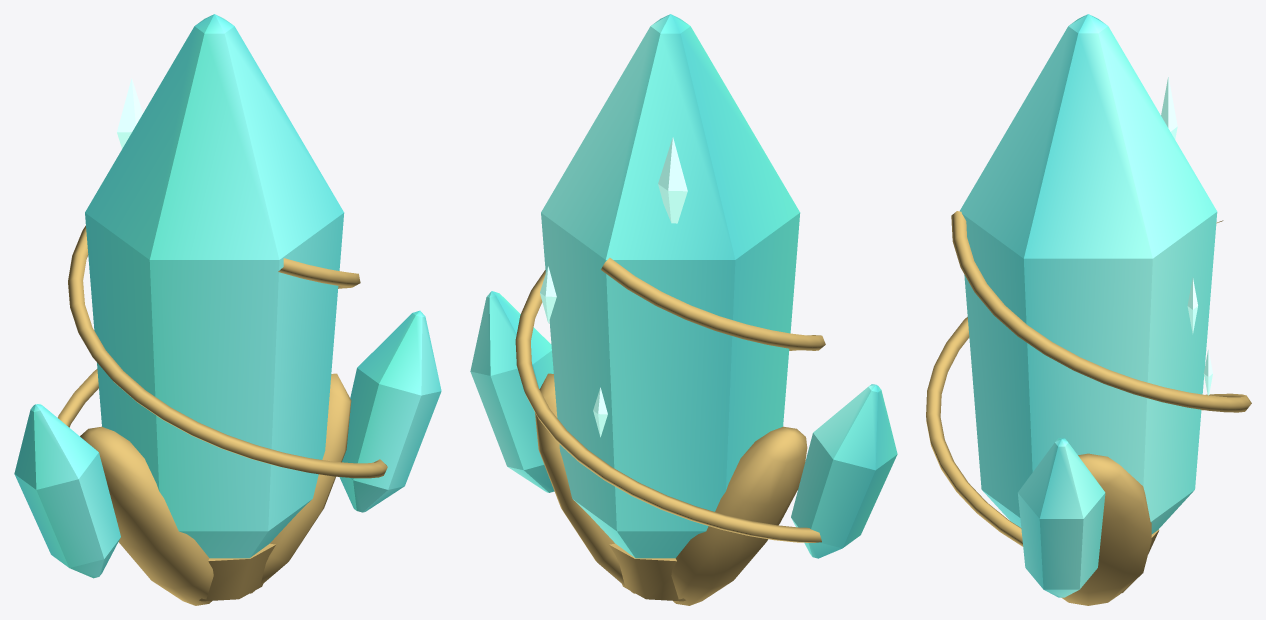
File: sail-crystal.glb
3 views of the same model, side by side, from view 1: azimuth 30°, elevation 25°; view 2: azimuth 150°, elevation 25°; view 3: azimuth 270°, elevation 25° (orthographic).
Visible parts, largest first — view 1: crystal-facets, gold-wind-ribbons, crystal-glints; view 2: crystal-facets, gold-wind-ribbons, crystal-glints; view 3: crystal-facets, gold-wind-ribbons, crystal-glints.
Boxes of the visible parts, x1,y1,x2,y2 form: crystal-facets: (14,14,441,578); gold-wind-ribbons: (57,225,387,605); crystal-glints: (117,78,142,148); crystal-facets: (470,14,897,558); gold-wind-ribbons: (515,258,825,605); crystal-glints: (540,137,687,437); crystal-facets: (960,14,1217,597); gold-wind-ribbons: (926,211,1251,605); crystal-glints: (1161,76,1212,395).
Size of the model in its own units: 1.05 by 1.44 by 0.7327.
